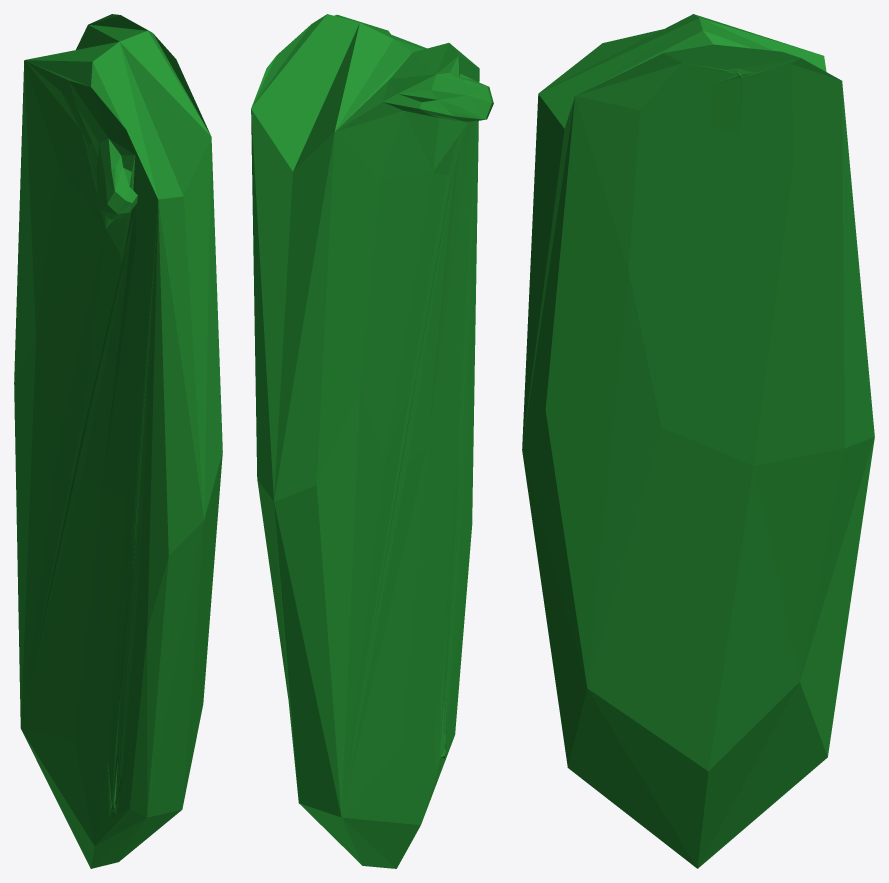
3 renders of one model, left to right at view 1: azimuth 30°, elevation 25°; view 2: azimuth 150°, elevation 25°; view 3: azimuth 270°, elevation 25°, orthographic. The views are drawn at different scales.
Visible parts, largest first — view 1: 270_Cube.1104; view 2: 270_Cube.1104; view 3: 270_Cube.1104.
Part boxes in pixels (x1=…): 270_Cube.1104: x1=14, y1=14, x2=222, y2=868; 270_Cube.1104: x1=251, y1=14, x2=493, y2=868; 270_Cube.1104: x1=522, y1=14, x2=874, y2=868.
Size of the model in its own units: 1.75 by 12.12 by 4.53.
